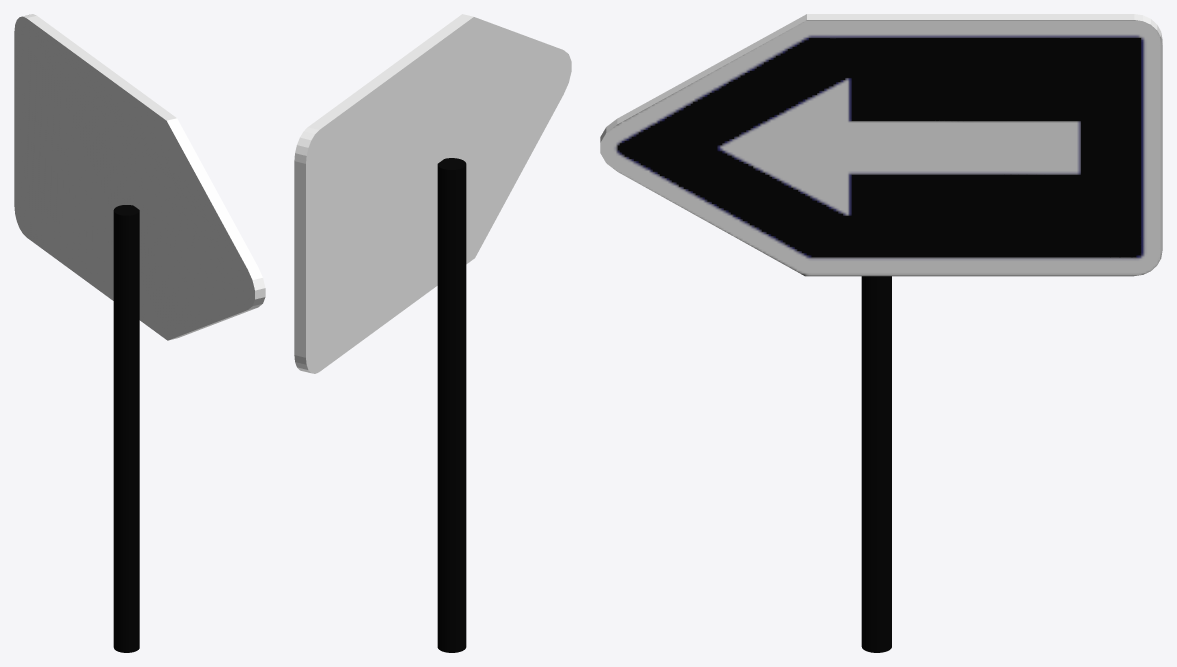
The model's file is Sign_Left_Arrow_Black.fbx.
3 views of the same model, side by side, from view 1: azimuth 30°, elevation 25°; view 2: azimuth 150°, elevation 25°; view 3: azimuth 270°, elevation 25° (orthographic). The views are drawn at different scales.
Parts seen in each view (by area): view 1: Cube.004, Pole_Park_Yellow.003; view 2: Cube.004, Pole_Park_Yellow.003; view 3: Cube.004, Pole_Park_Yellow.003.
Part boxes in pixels (box(x1,y1,x2,y2)): Cube.004: box(14, 14, 265, 340); Pole_Park_Yellow.003: box(113, 205, 139, 652); Cube.004: box(294, 14, 571, 373); Pole_Park_Yellow.003: box(437, 158, 466, 652); Cube.004: box(600, 14, 1162, 276); Pole_Park_Yellow.003: box(861, 276, 891, 652).
Size of the model in its own units: 6.76 by 111 by 88.89.
